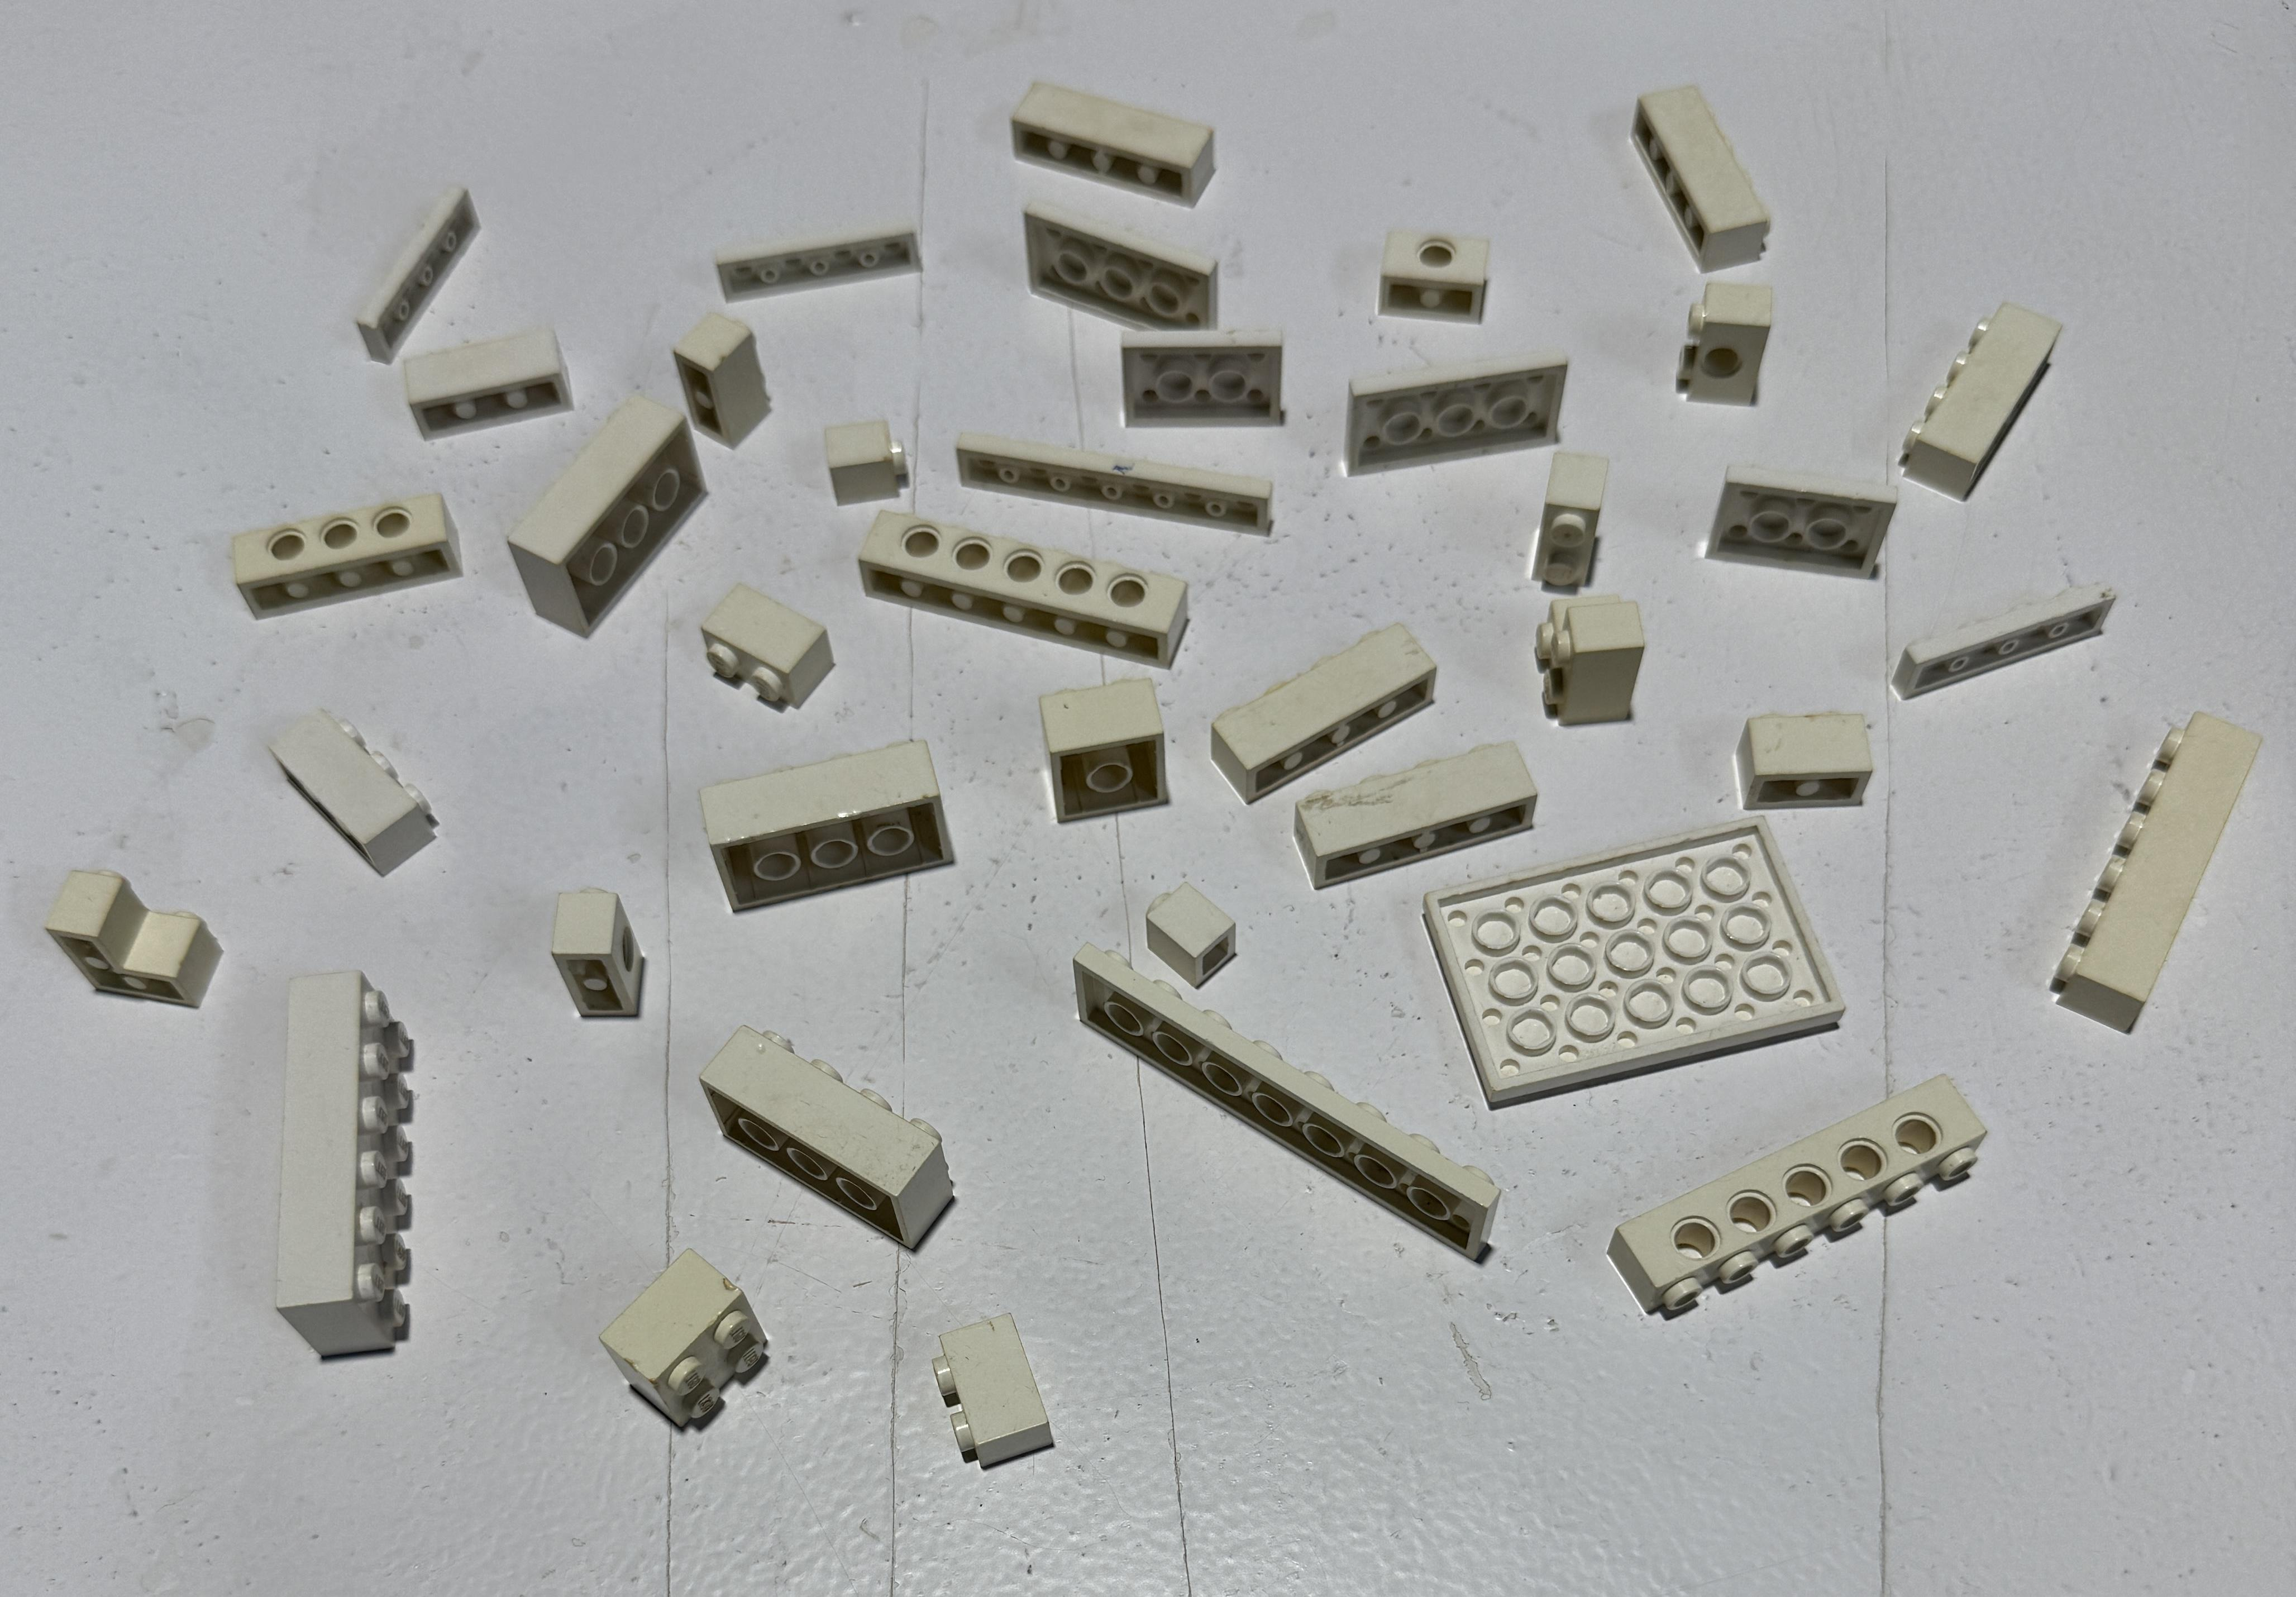brick_1x1: (1129, 864, 1258, 1012), (804, 394, 933, 518)
brick_1x2: (670, 574, 876, 723), (912, 1283, 1063, 1478), (1724, 679, 1905, 834), (530, 853, 672, 1044), (654, 283, 790, 471), (1352, 202, 1530, 333), (1659, 264, 1788, 424), (1500, 422, 1612, 600)
brick_1x3: (248, 682, 464, 885), (386, 297, 591, 459)
brick_1x4: (1260, 726, 1563, 911), (1199, 595, 1452, 813), (975, 59, 1251, 236), (1888, 281, 2080, 529), (206, 468, 489, 632), (1614, 65, 1788, 291)
brick_2x2: (590, 1227, 804, 1464), (1022, 663, 1186, 848)
brick_2x4: (682, 1009, 1017, 1274), (679, 716, 970, 948)
